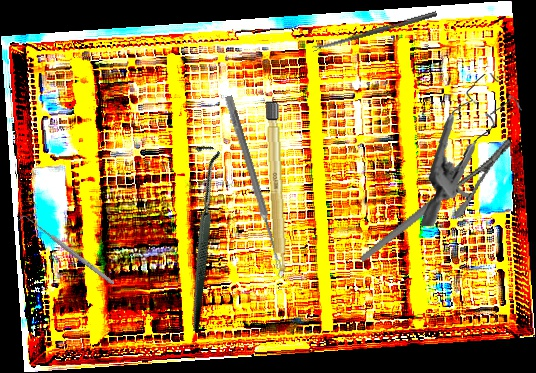Hook Surgical: (111, 139, 287, 334), (18, 211, 116, 290)
Needle Holder: (339, 137, 532, 263)
Scalpel Handle: (264, 99, 288, 281)
Speculum: (409, 71, 531, 227)
Surgical Spoon: (223, 95, 285, 270), (311, 10, 438, 52)
